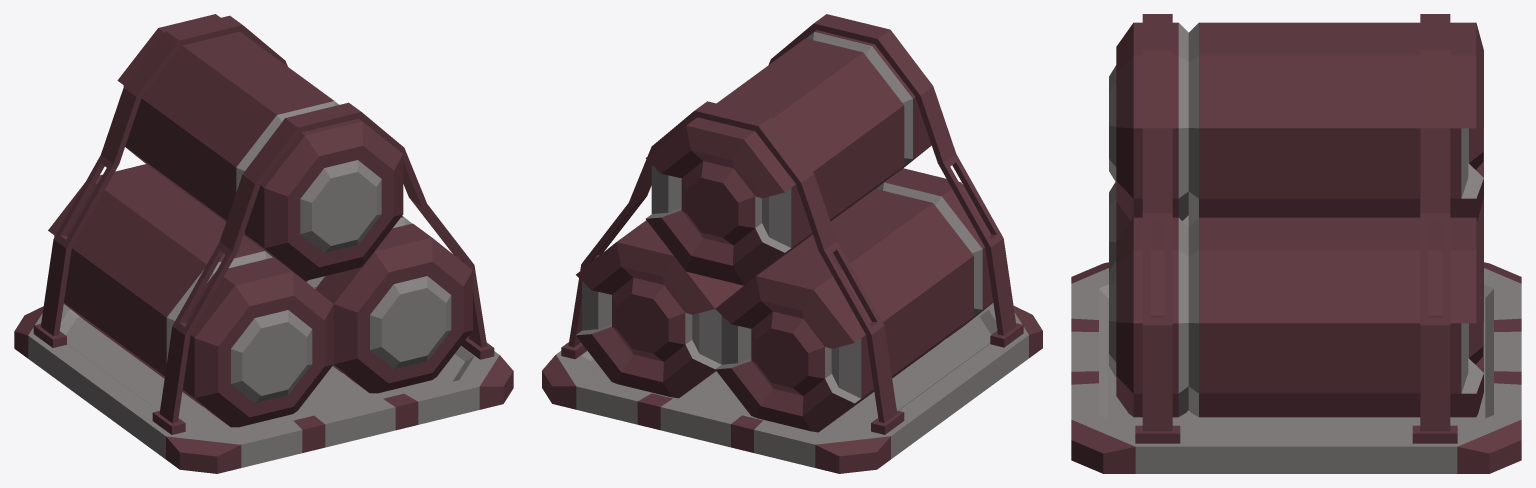
File: scifi-vials-three-pack.fbx
The picture shows the model from 3 angles, left to right: view 1: azimuth 30°, elevation 25°; view 2: azimuth 150°, elevation 25°; view 3: azimuth 270°, elevation 25°; orthographic projection. The views are drawn at different scales.
Parts seen in each view (by area): view 1: scifi-vials-three-pack; view 2: scifi-vials-three-pack; view 3: scifi-vials-three-pack.
Boxes of the visible parts, bbox=[...] form: scifi-vials-three-pack: bbox=[14, 14, 513, 473]; scifi-vials-three-pack: bbox=[542, 14, 1042, 473]; scifi-vials-three-pack: bbox=[1071, 14, 1521, 473].
Size of the model in its own units: 1.2 by 1.02 by 1.2.
